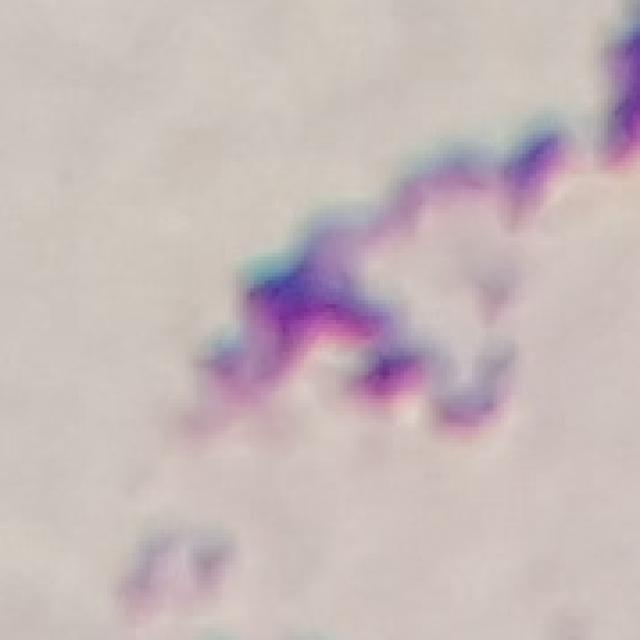non-sperm: (206, 231, 436, 395)
